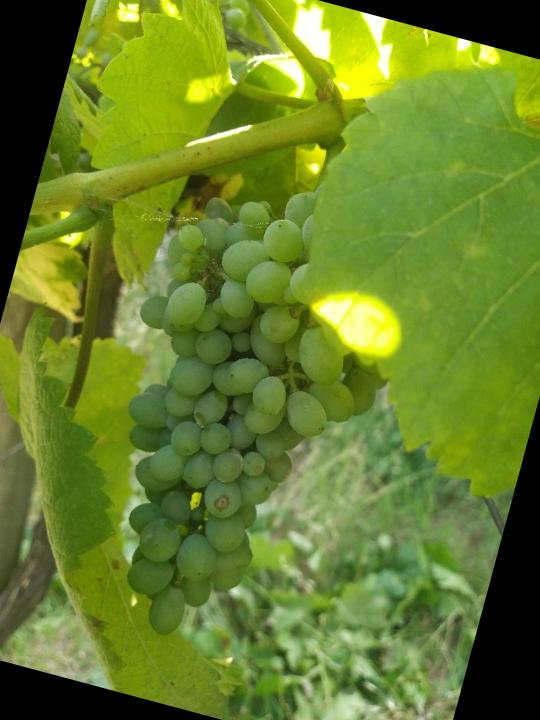grape: (54, 142, 433, 682)
